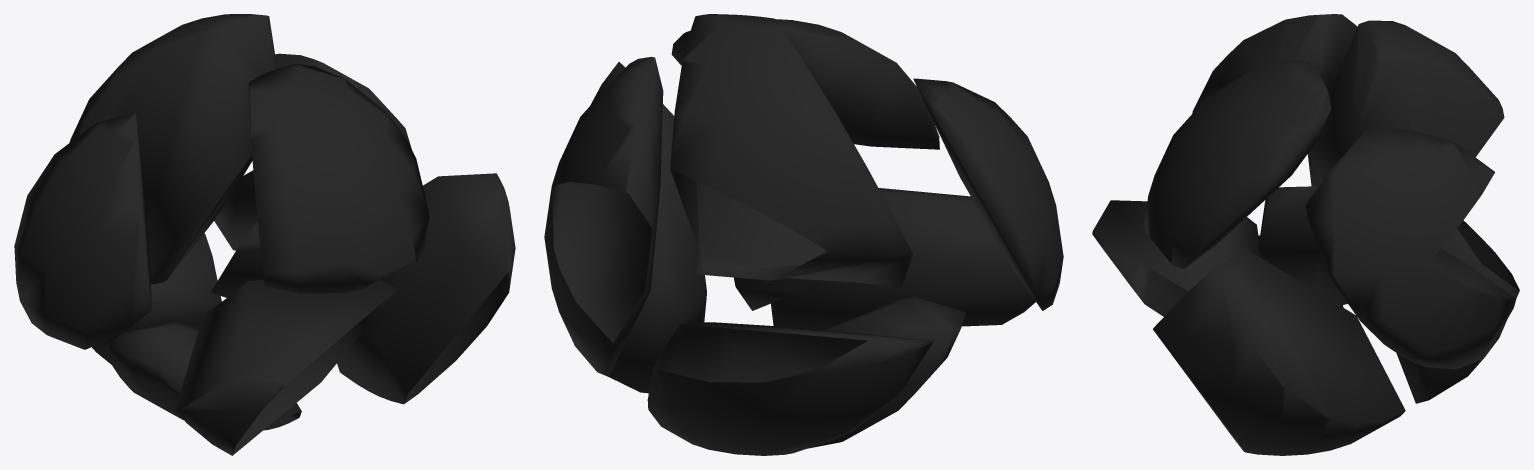
The model's file is abstractball5.glb.
The picture shows the model from 3 angles, left to right: view 1: azimuth 30°, elevation 25°; view 2: azimuth 150°, elevation 25°; view 3: azimuth 270°, elevation 25°; orthographic projection. The views are drawn at different scales.
Parts seen in each view (by area): view 1: Voronoi_Fracture.5; view 2: Voronoi_Fracture.5; view 3: Voronoi_Fracture.5.
Boxes of the visible parts, box(x1,y1,x2,y2) form: Voronoi_Fracture.5: box(14, 14, 515, 455); Voronoi_Fracture.5: box(544, 14, 1063, 455); Voronoi_Fracture.5: box(1092, 14, 1519, 455).
Size of what is drawn, in the model's own units: 3.37 by 2.75 by 2.79.
Materials: 1 (1 with a texture image).
